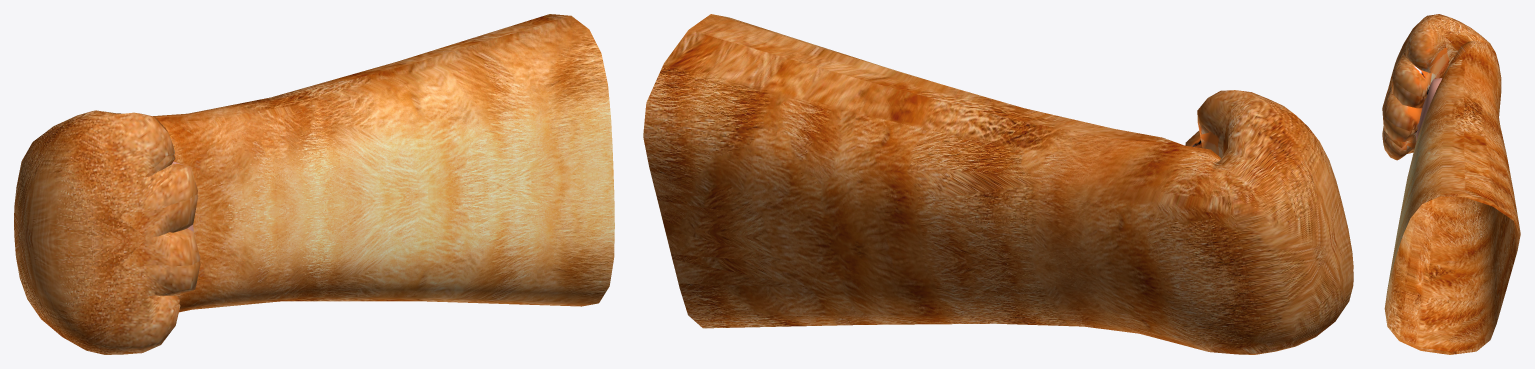
Rendered from rockOrange.glb.
3 views of the same model, side by side, from view 1: azimuth 30°, elevation 25°; view 2: azimuth 150°, elevation 25°; view 3: azimuth 270°, elevation 25° (orthographic). The views are drawn at different scales.
Visible parts, largest first — view 1: Rock; view 2: Rock; view 3: Rock.
Boxes of the visible parts, x1,y1,x2,y2 form: Rock: [14, 14, 614, 354]; Rock: [643, 14, 1353, 354]; Rock: [1382, 14, 1520, 354].
Bounding box in the file's own units: 0.9246 × 0.4737 × 0.309.
2 materials, 1 textured.
